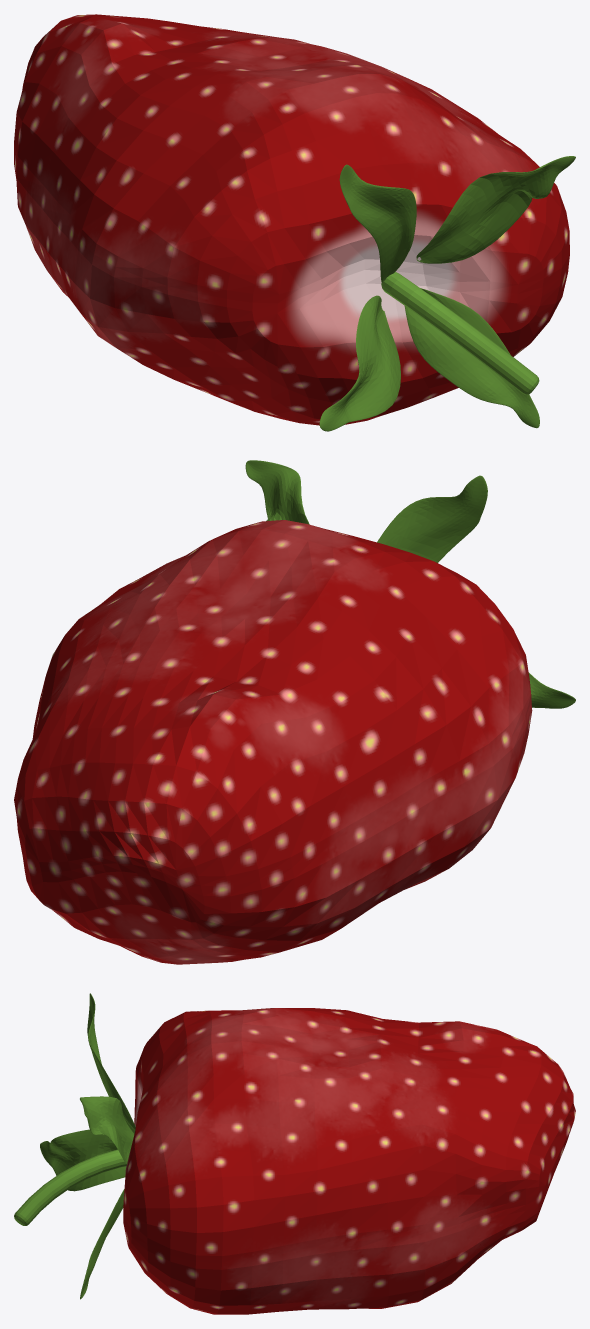
The picture shows the model from 3 angles, top to bottom: view 1: azimuth 30°, elevation 25°; view 2: azimuth 150°, elevation 25°; view 3: azimuth 270°, elevation 25°; orthographic projection. The views are drawn at different scales.
Parts seen in each view (by area): view 1: world; view 2: world; view 3: world.
Part boxes in pixels (x1,y1,x2,y2): world: (14,14,575,431); world: (14,460,575,964); world: (14,993,575,1314).
Size of the model in its own units: 0.027 by 0.0206 by 0.0396.
1 material, 1 textured.
